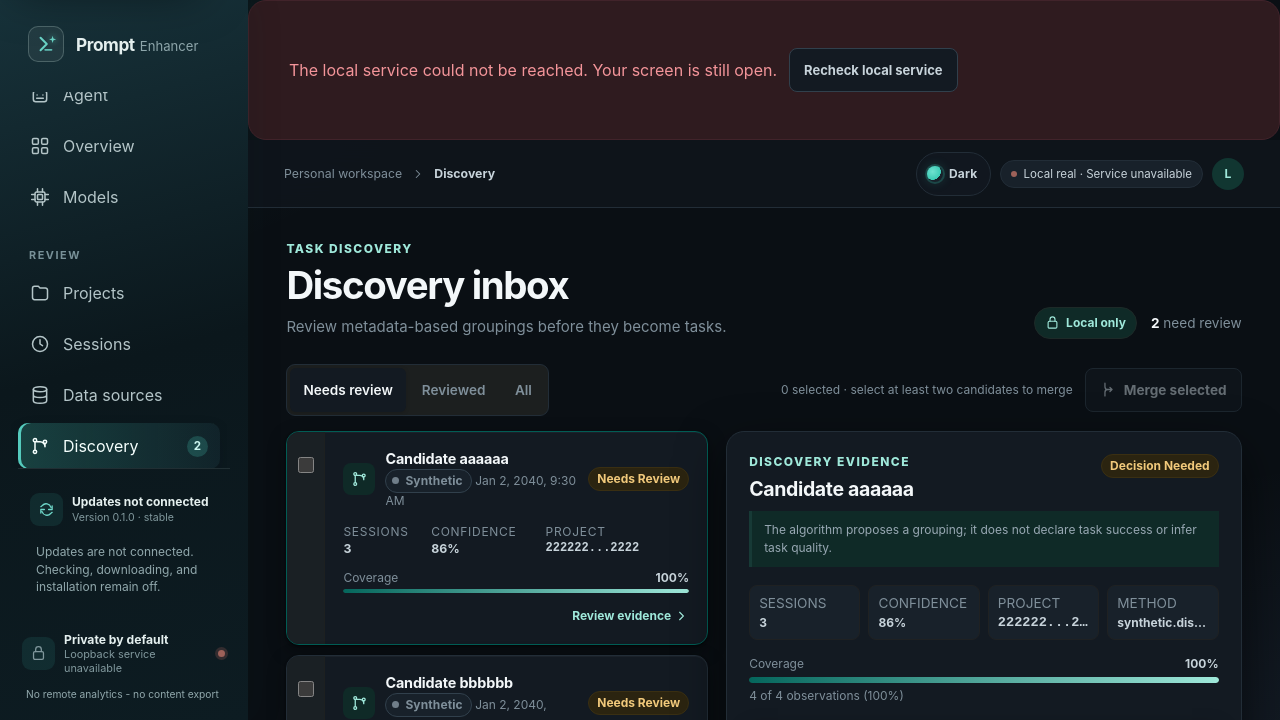
Test case: App discovery navigation › reports local service unavailable when the health check fails
(page scrolled)
Check: the element named "Local loopback service unavailable" is shown, box [218,650,225,657]
Check: the text "Local real · Service unavailable" is shown, box [1000,160,1203,188]
What coordinates should you click on to do the following:
click the button "Recheck local service"
I would click on:
 (873, 70)
Its box is [789,48,958,92].
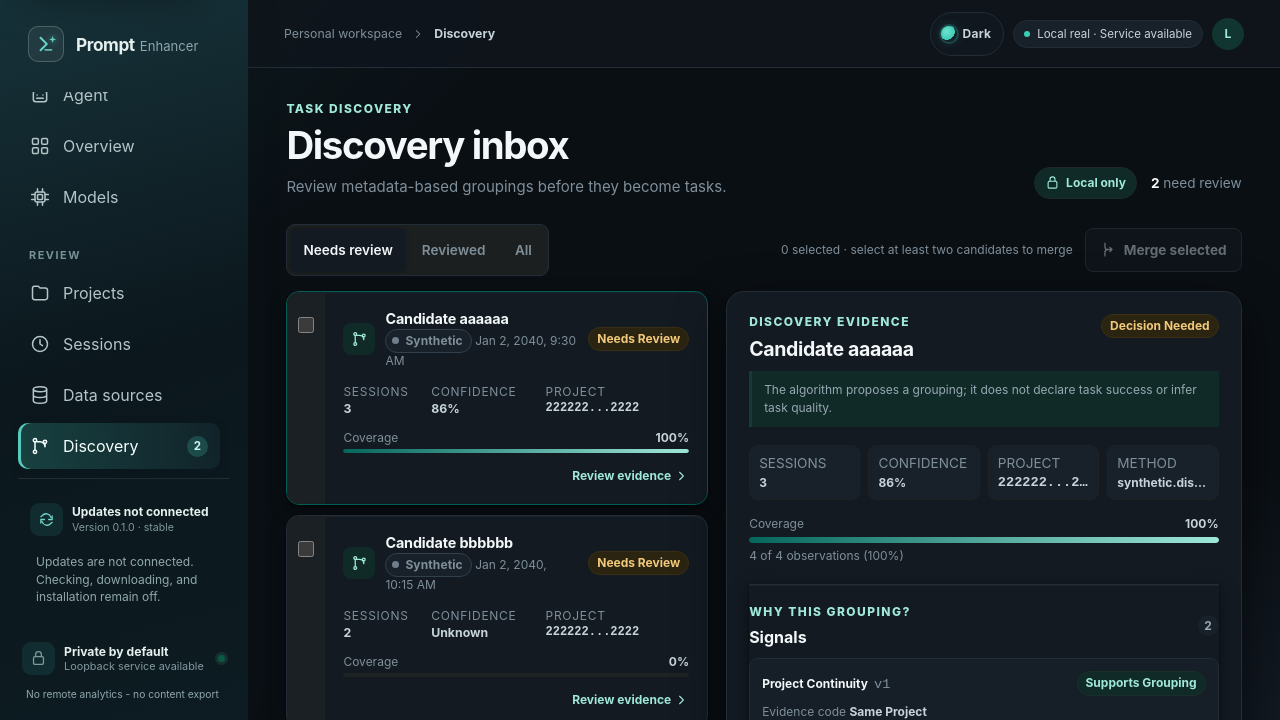
Check: the element named "Local loopback service available" is shown, box [218,655,225,662]
Check: the button "Recheck local service" is gone
